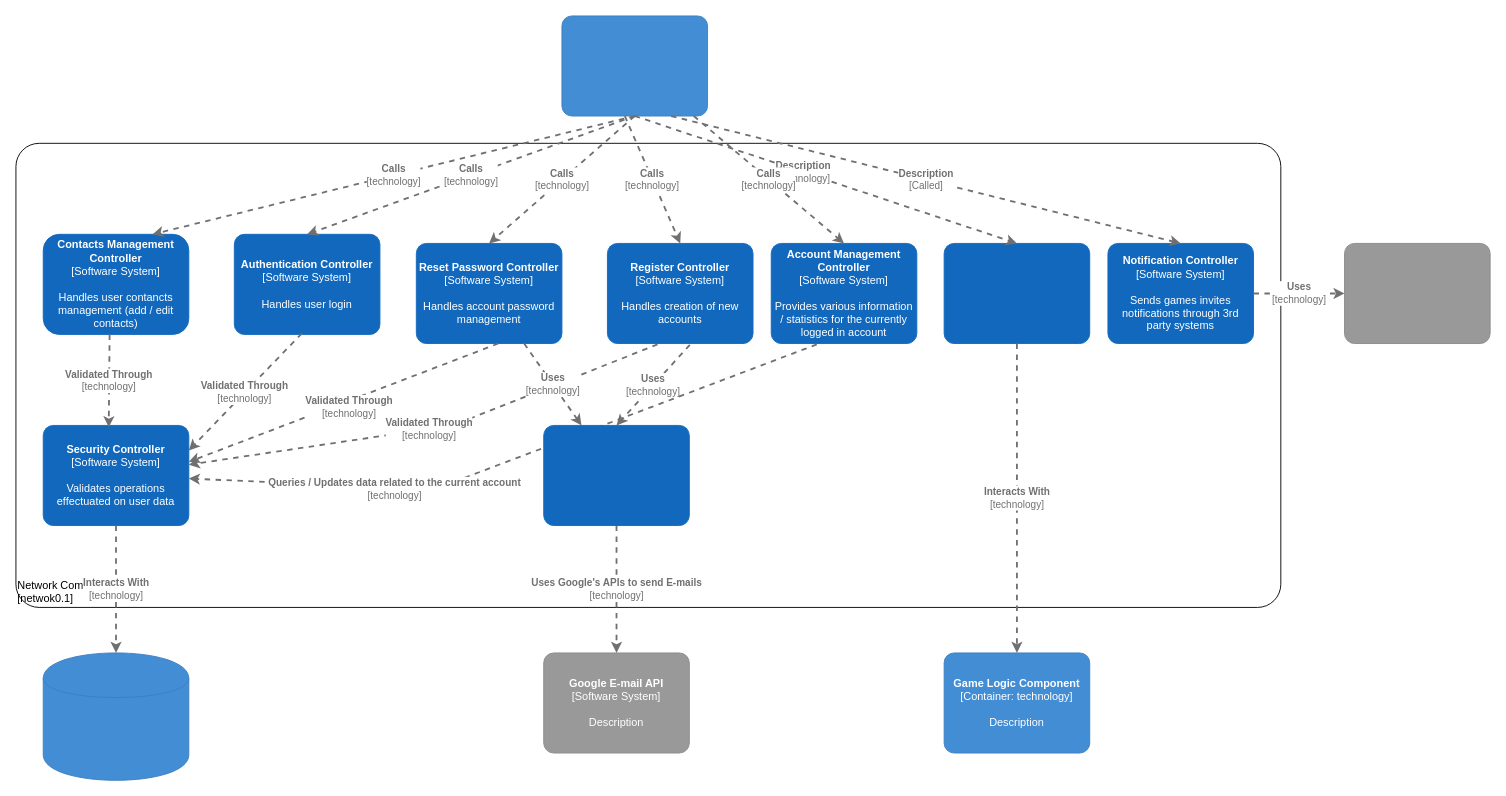
Some shapes in this 1506 by 796 pixel diagram are drawn without their labels. Here are the shapes that lost their labels. From the top down, the centre of each, then its label:
At pixel 634 65: "Interface [Container: technology] UI".
At pixel 1016 293: "Game Session Controller [Software System] Description".
At pixel 1417 293: "Discord API [Software System] Description".
At pixel 616 475: "E-Mail Controller [Software System] Description".
At pixel 115 716: "Database [Container: PostgreSQL Database] Description".
